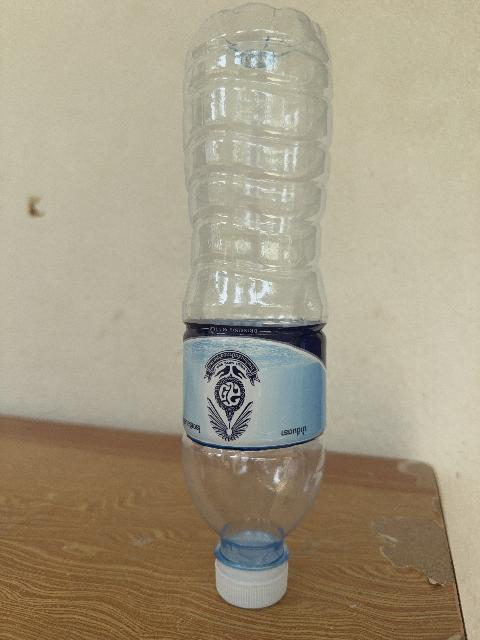bottle: (183, 4, 332, 607)
